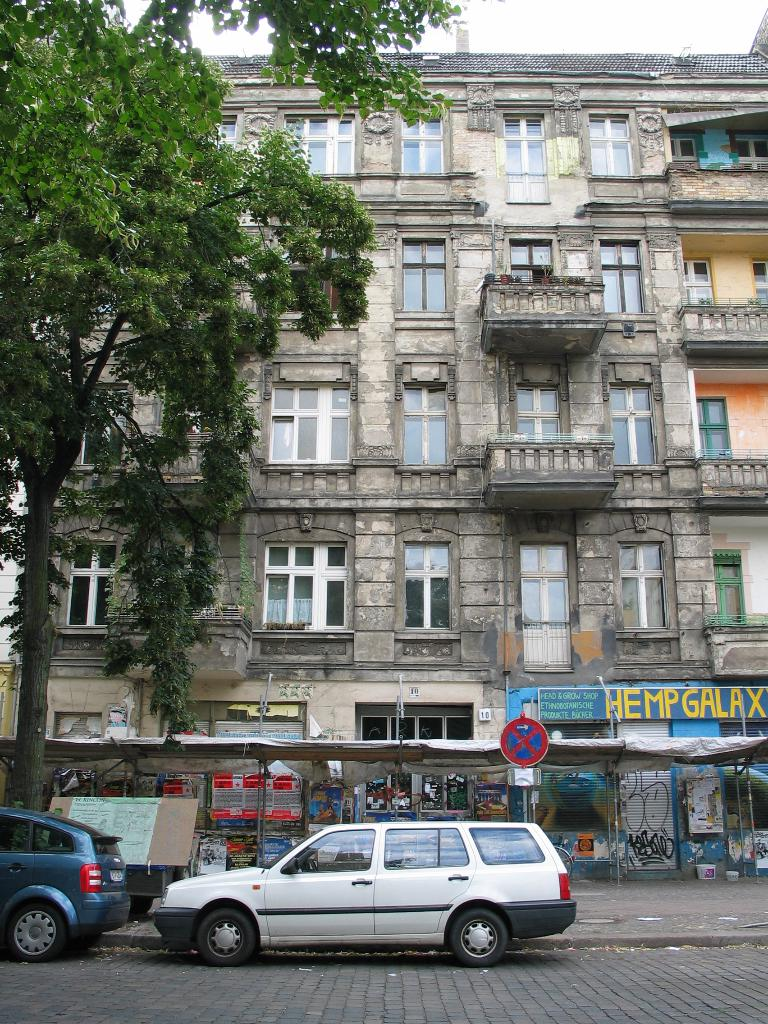Car: (154, 814, 566, 968), (0, 801, 131, 962)
